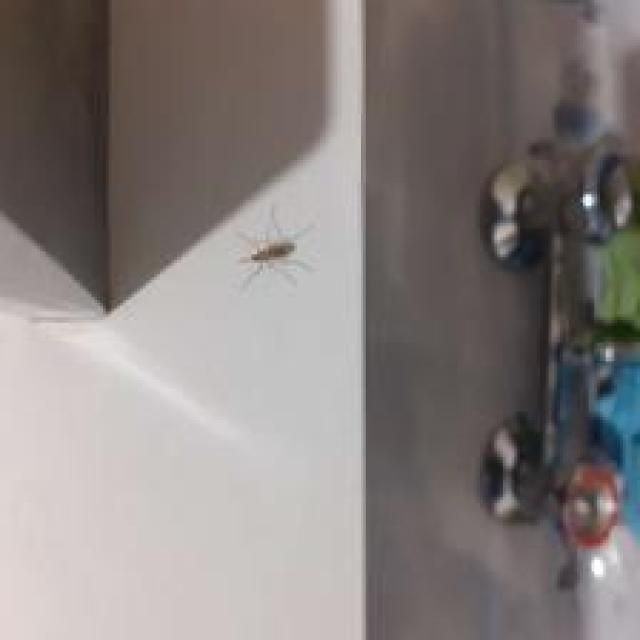Culex: (234, 201, 317, 290)
